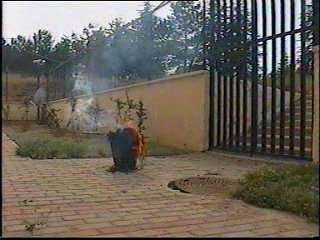smoke: (70, 29, 164, 132)
